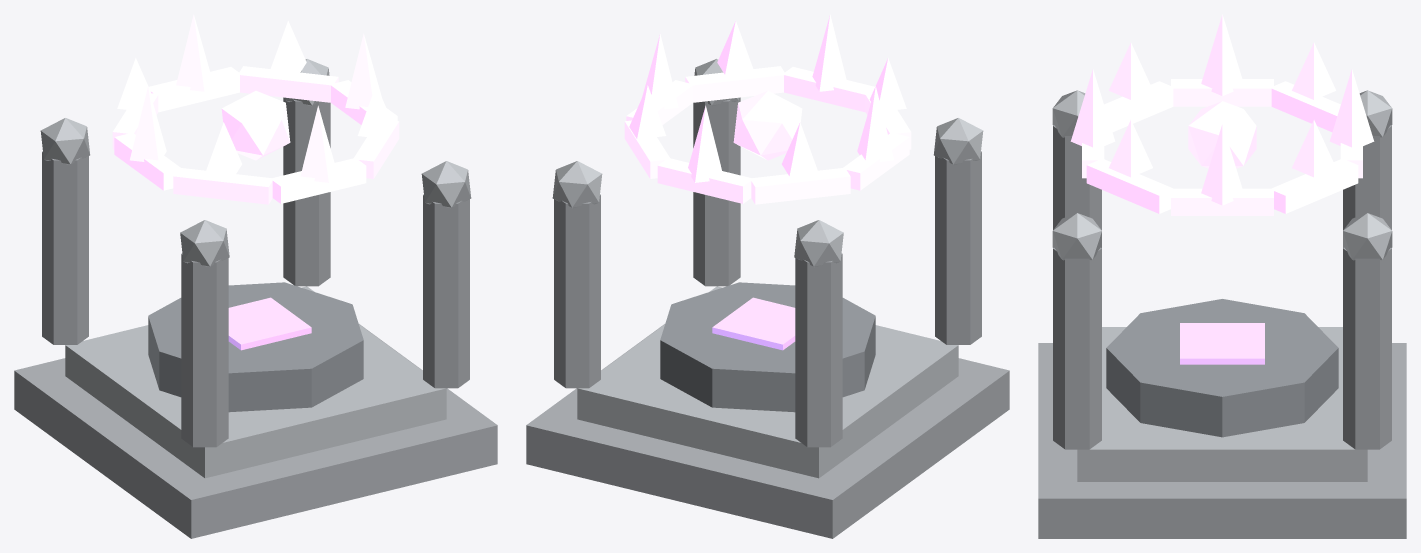
File: altar.glb
The picture shows the model from 3 angles, left to right: view 1: azimuth 30°, elevation 25°; view 2: azimuth 150°, elevation 25°; view 3: azimuth 270°, elevation 25°; orthographic projection. The views are drawn at different scales.
Visible parts, largest first — view 1: platform.001, step, plinth, pillar, pillar.002, pillar.001, pillar.003, heart, rune, crown_band.005, crown_band.001, crown_band.006 (+16 smaller); view 2: platform.001, step, plinth, pillar.001, pillar.003, pillar, pillar.002, heart, rune, crown_band.003, crown_band.007, crown_band.002 (+16 smaller); view 3: platform.001, plinth, step, pillar.002, pillar.003, rune, heart, pillar, pillar.001, crown_band, crown_band.001, crown_band.007 (+17 smaller).
Boxes of the visible parts, x1,y1,x2,y2 form: platform.001: (14,324,497,538); step: (65,286,446,478); plinth: (148,282,363,412); pillar: (181,253,228,447); pillar.002: (423,194,469,388); pillar.001: (42,151,88,344); pillar.003: (283,97,330,286); heart: (221,91,290,160); rune: (228,297,311,350); crown_band.005: (173,167,273,204); crown_band.001: (238,66,338,102); crown_band.006: (272,158,366,203); platform.001: (526,324,1009,538); step: (577,286,958,478); plinth: (660,282,875,412); pillar.001: (795,253,842,447); pillar.003: (554,194,600,388); pillar: (935,151,981,344); pillar.002: (693,97,740,286); heart: (733,91,802,160); rune: (712,297,795,350); crown_band.003: (750,167,850,204); crown_band.007: (685,66,784,102); crown_band.002: (657,158,751,203); platform.001: (1038,343,1406,538); plinth: (1106,299,1338,437); step: (1077,327,1367,481); pillar.002: (1053,247,1101,449); pillar.003: (1343,247,1391,449); rune: (1180,323,1264,364); heart: (1188,101,1256,168); pillar: (1053,125,1101,230); pillar.001: (1343,125,1391,230); crown_band: (1171,188,1273,215); crown_band.001: (1271,159,1358,213); crown_band.007: (1086,159,1173,213).
Size of the model in its own units: 1.65 by 1.94 by 1.65.
